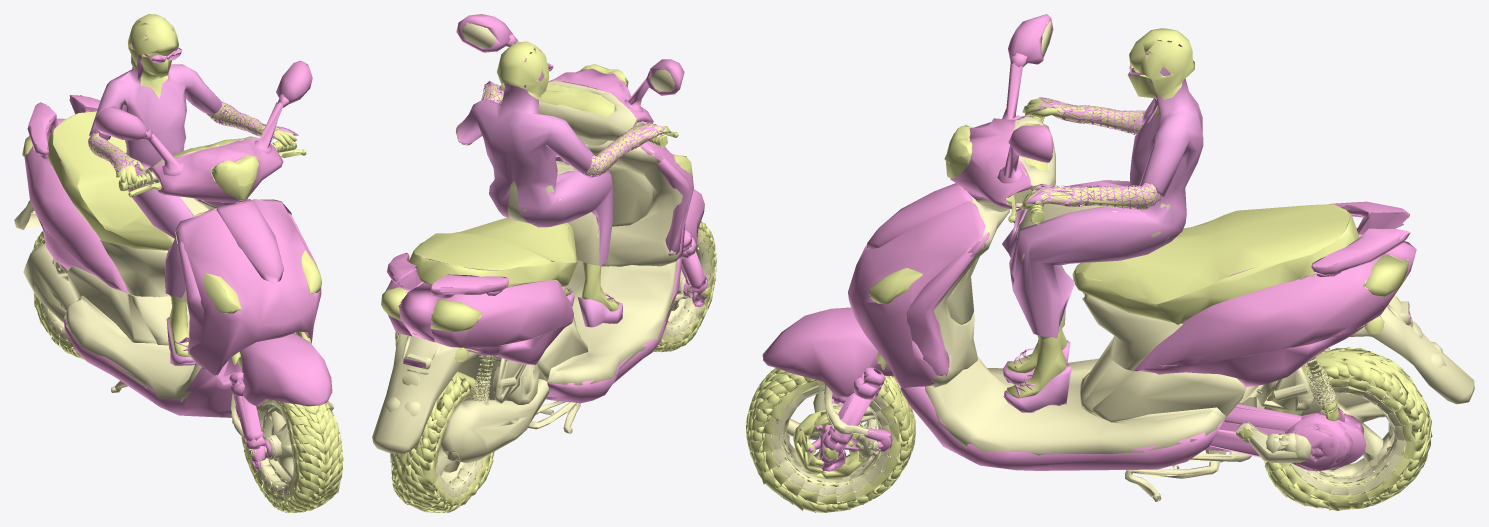
The picture shows the model from 3 angles, left to right: view 1: azimuth 30°, elevation 25°; view 2: azimuth 150°, elevation 25°; view 3: azimuth 270°, elevation 25°; orthographic projection. The views are drawn at different scales.
Parts seen in each view (by area): view 1: lead.004; view 2: lead.004; view 3: lead.004.
Boxes of the visible parts, <box> form: lead.004: <box>14,14,343,512</box>; lead.004: <box>372,14,716,512</box>; lead.004: <box>745,14,1474,512</box>.
Bounding box in the file's own units: 1.72 × 2.99 × 4.17.
